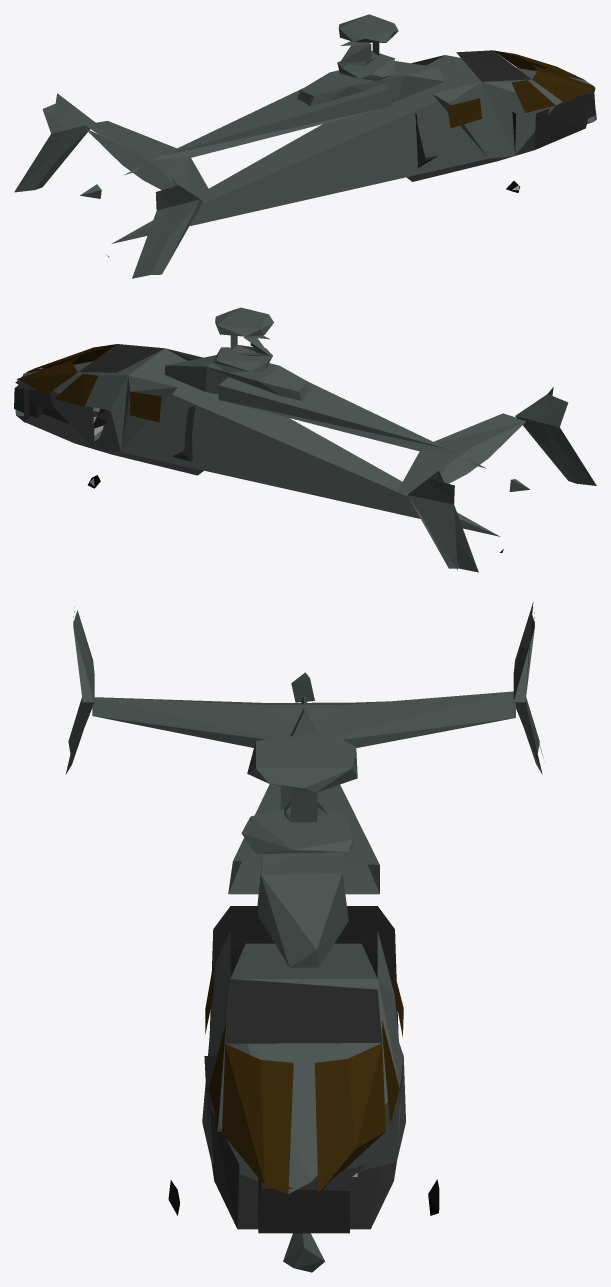
The picture shows the model from 3 angles, top to bottom: view 1: azimuth 30°, elevation 25°; view 2: azimuth 150°, elevation 25°; view 3: azimuth 270°, elevation 25°; orthographic projection. The views are drawn at different scales.
Visible parts, largest first — view 1: Object_5, Object_4, Object_13, Object_18; view 2: Object_5, Object_4, Object_18; view 3: Object_5, Object_4.
Boxes of the visible parts, box(x1,y1,x2,y2) form: Object_5: box(14, 14, 596, 278); Object_4: box(111, 55, 592, 243); Object_13: box(339, 43, 371, 62); Object_18: box(51, 93, 91, 132); Object_5: box(14, 307, 596, 572); Object_4: box(23, 348, 500, 536); Object_18: box(407, 471, 457, 569); Object_5: box(65, 606, 542, 1272); Object_4: box(202, 931, 405, 1193).
Bounding box in the file's own units: 13.41 × 4.27 × 5.34.
